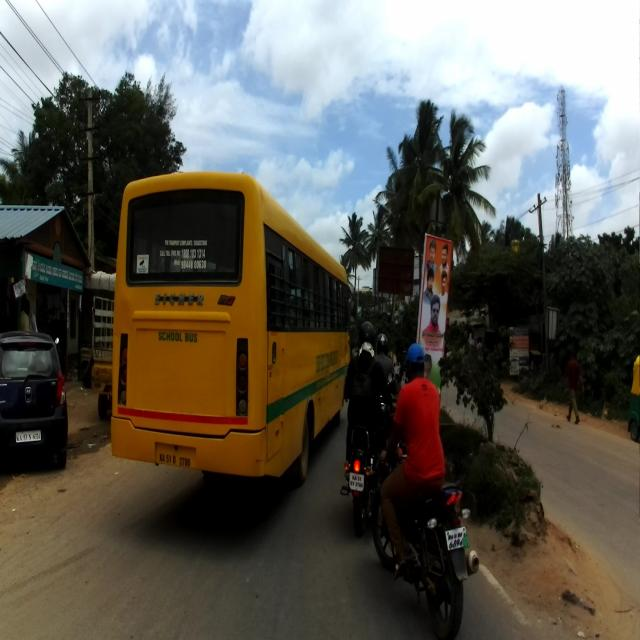Car_Hyundai: (0, 329, 69, 471)
bus: (109, 168, 358, 490)
motorcycle_RoyalEnfield: (340, 369, 395, 538)
motorcycle_bajaj: (369, 418, 479, 639)
